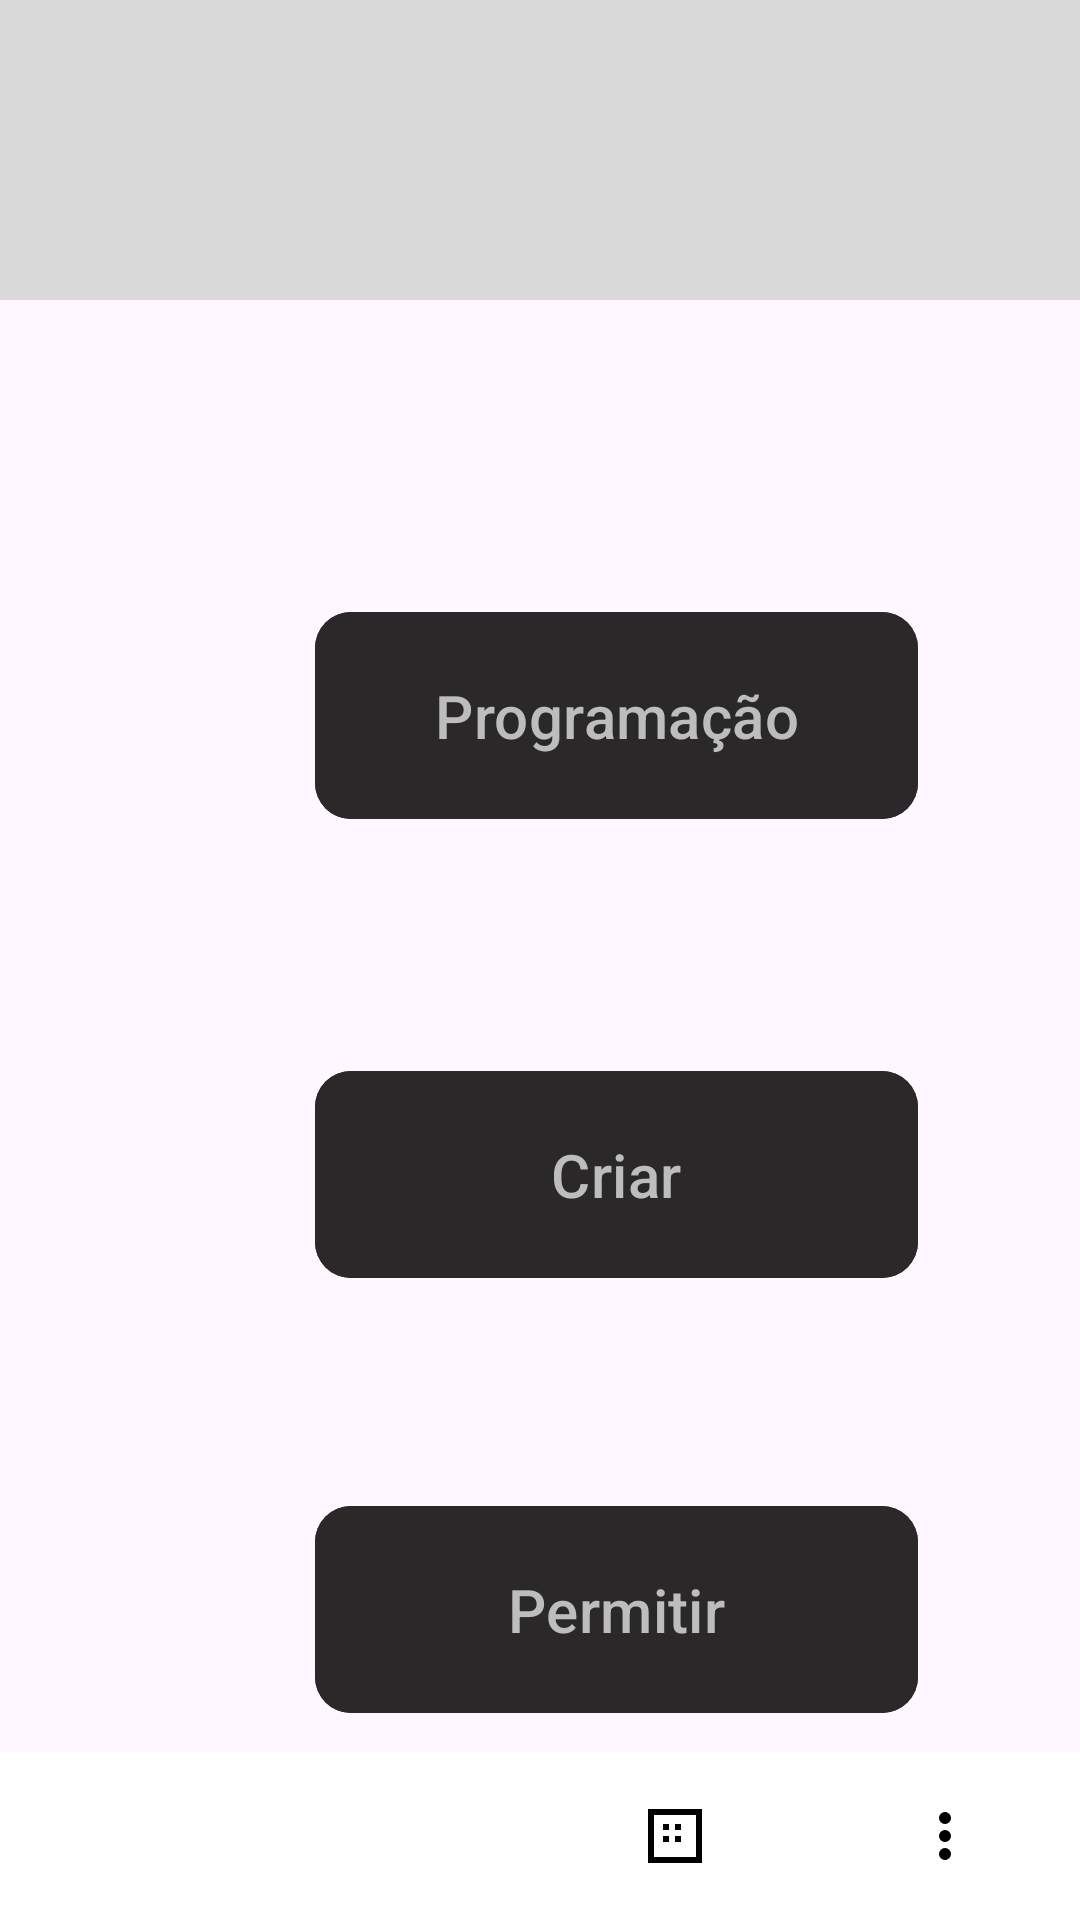

Where to tap for icons on this 1080px×1920px app screen, as [x,y]:
More: [945,1836]
